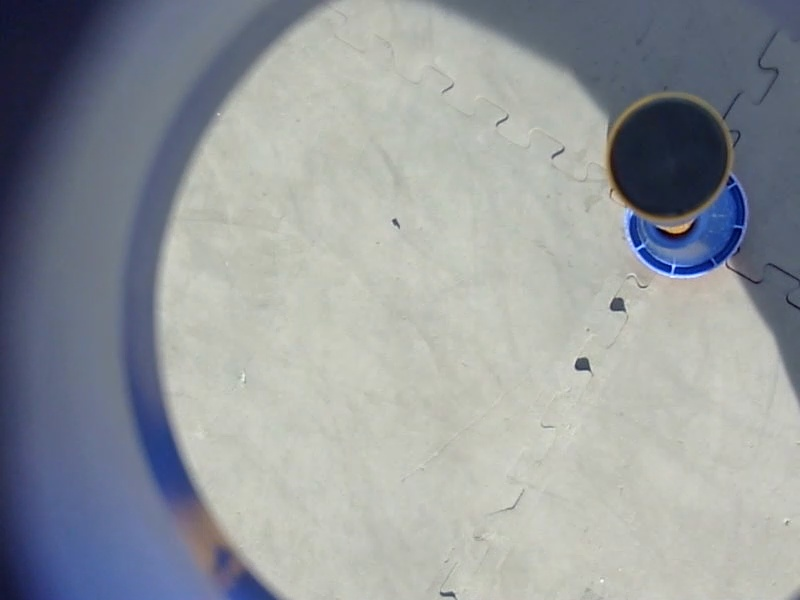tip: (595, 82, 745, 232)
